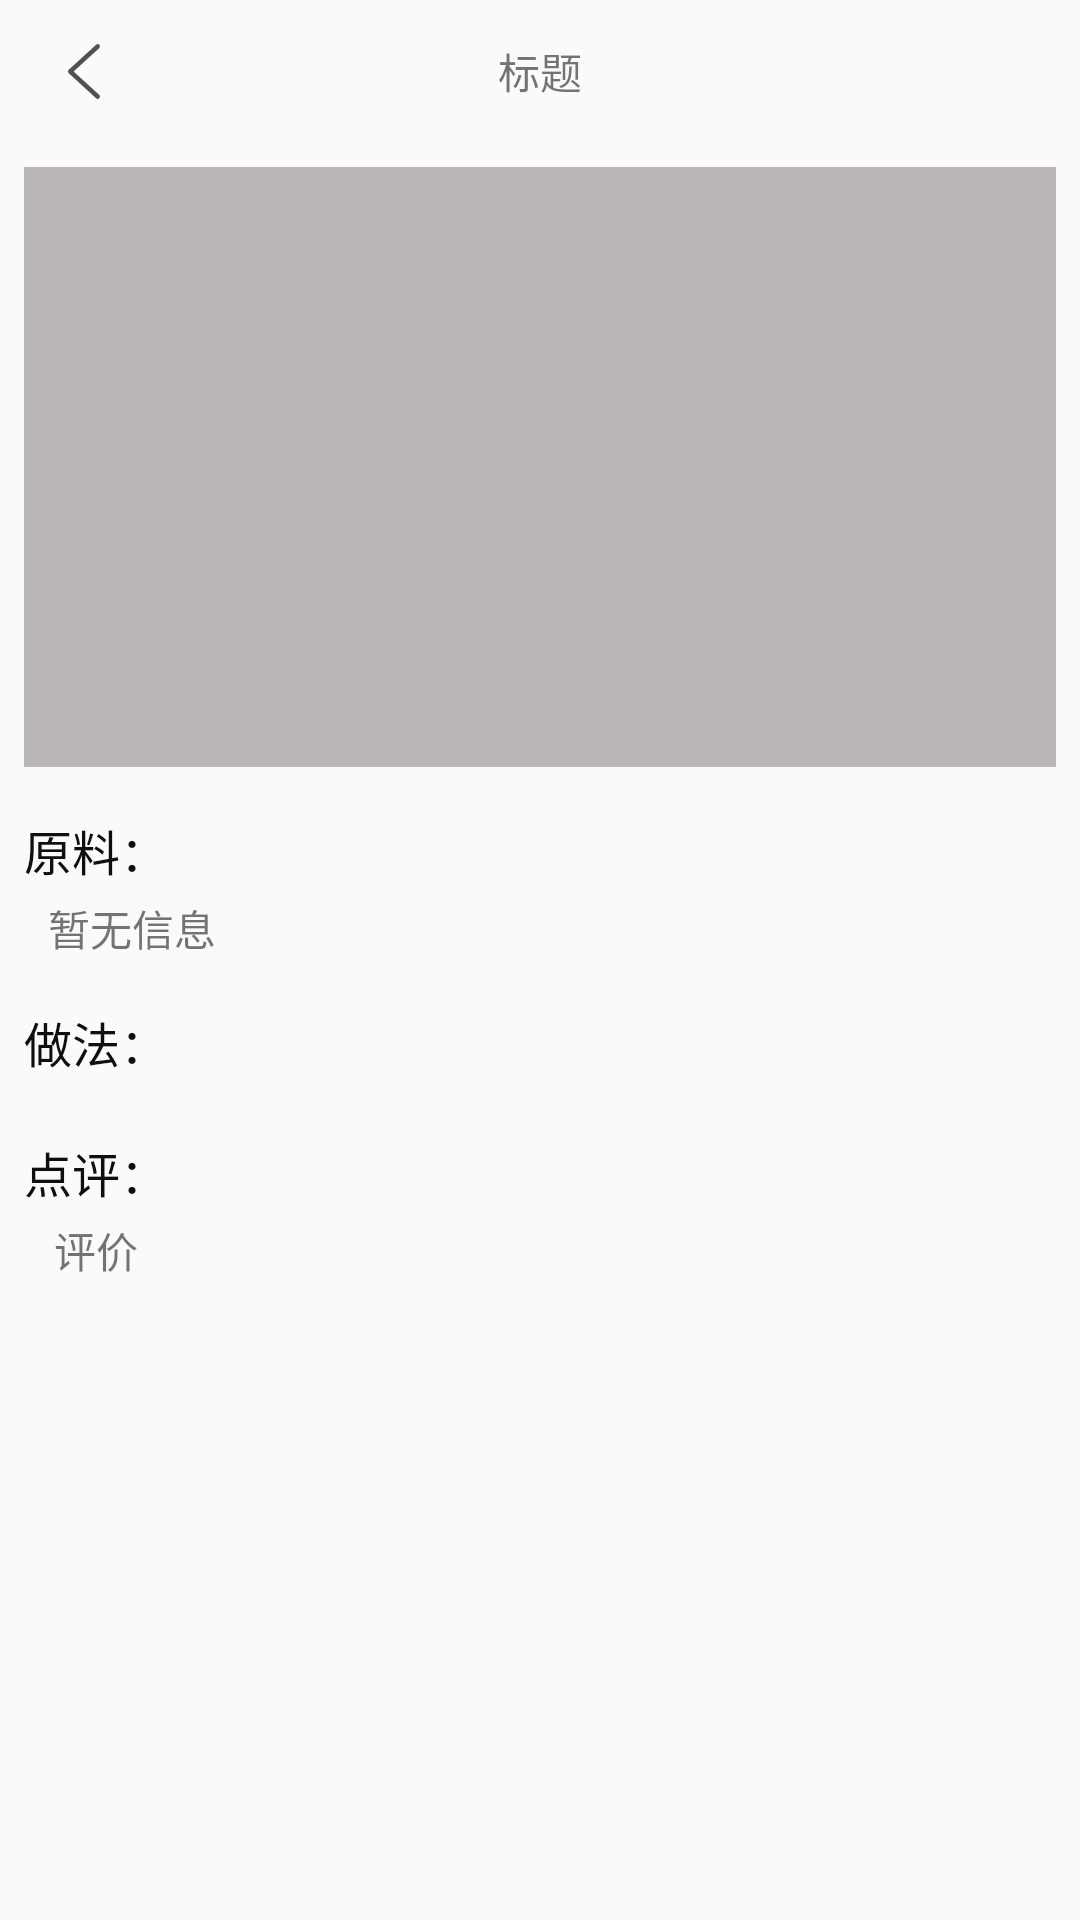

Named icons in this screenshot (1080px×1920px) and their bounding boxes, [x1, y1, x2, y2]:
back arrow: [68, 44, 100, 99]
